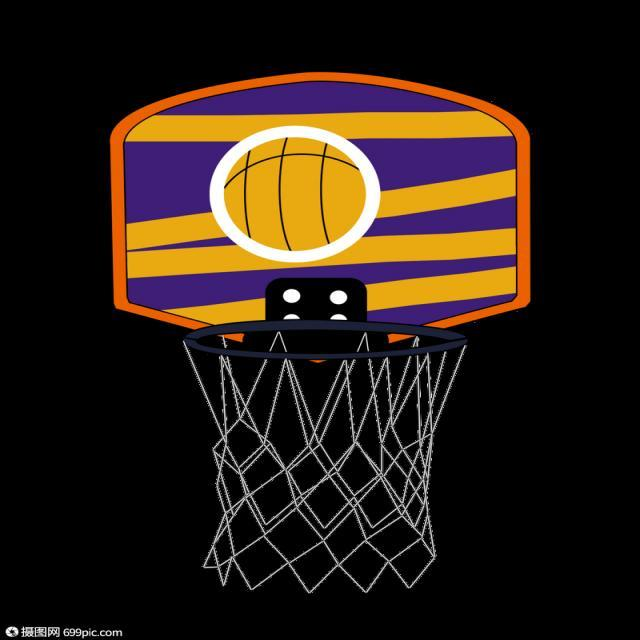rim: (223, 139, 364, 248)
